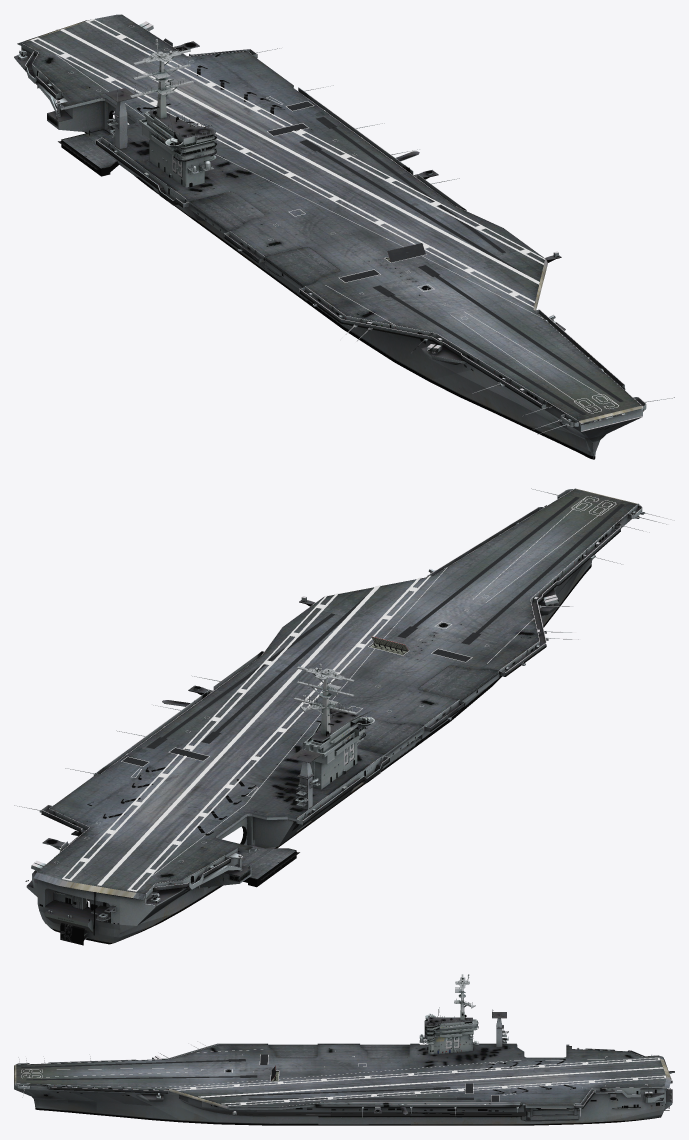
The model's file is hmnmzj.gltf.
3 views of the same model, one above another, from view 1: azimuth 30°, elevation 25°; view 2: azimuth 150°, elevation 25°; view 3: azimuth 270°, elevation 25° (orthographic). The views are drawn at different scales.
Parts seen in each view (by area): view 1: HM_NMZ; view 2: HM_NMZ; view 3: HM_NMZ.
Boxes of the visible parts, x1,y1,x2,y2 form: HM_NMZ: (14, 14, 674, 459); HM_NMZ: (14, 488, 674, 945); HM_NMZ: (14, 974, 674, 1125).
Size of the model in its own units: 9.37 by 6.3 by 34.24.
Materials: 10 (8 with a texture image).
